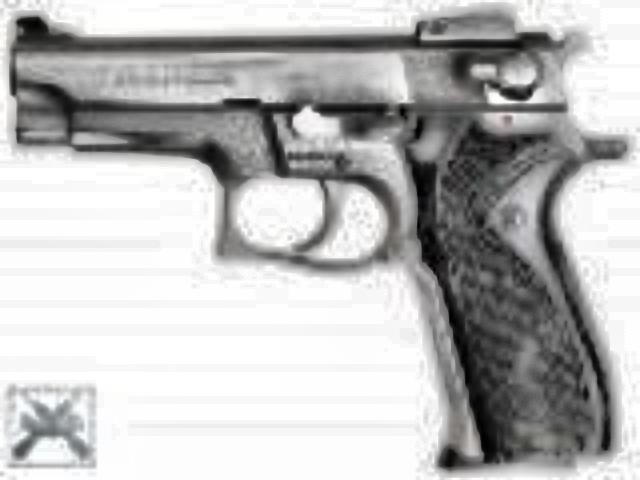pistol: (12, 16, 616, 472)
